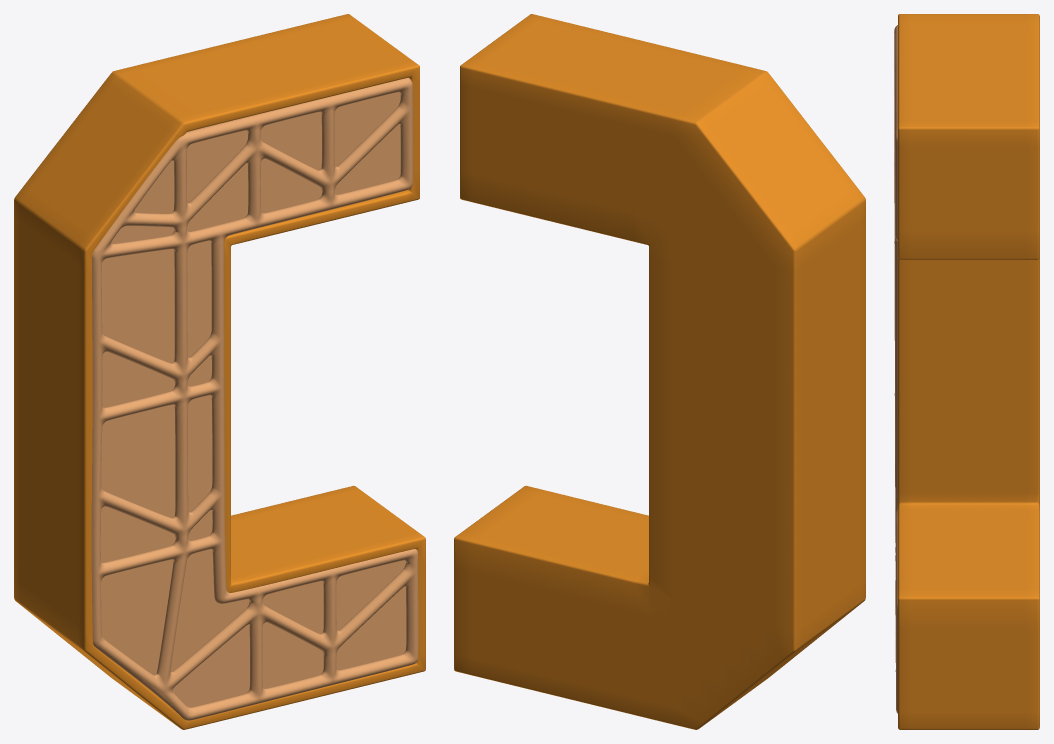
The model's file is C_nuevo.glb.
3 renders of one model, left to right at view 1: azimuth 30°, elevation 25°; view 2: azimuth 150°, elevation 25°; view 3: azimuth 270°, elevation 25°, orthographic.
Visible parts, largest first — view 1: Text.004, Plane.002, Plane.005; view 2: Text.004; view 3: Text.004, Plane.005.
Part boxes in pixels (x1,y1,x2,y2): Text.004: (14, 14, 425, 729); Plane.002: (100, 92, 406, 707); Plane.005: (91, 77, 418, 720); Text.004: (454, 14, 865, 729); Text.004: (898, 14, 1039, 729); Plane.005: (894, 25, 897, 713).
Size of the model in its own units: 1.51 by 2.57 by 0.565.
